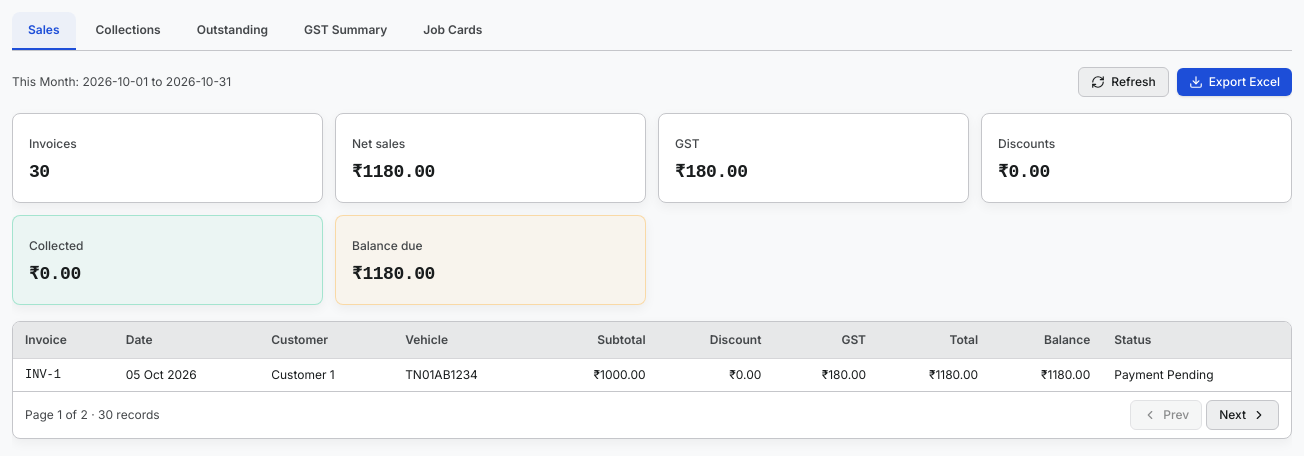
it: FinancialReportsView › moves through pages
This screenshot has width=1304, height=456.
Expected: the text "INV-1" is shown, [13, 358, 114, 391]
Expected: the text "Page 1 of 2 · 30 records" is shown, [25, 407, 160, 423]
Click the button with aria-label "next page" at (1243, 415), box [1206, 400, 1279, 430]
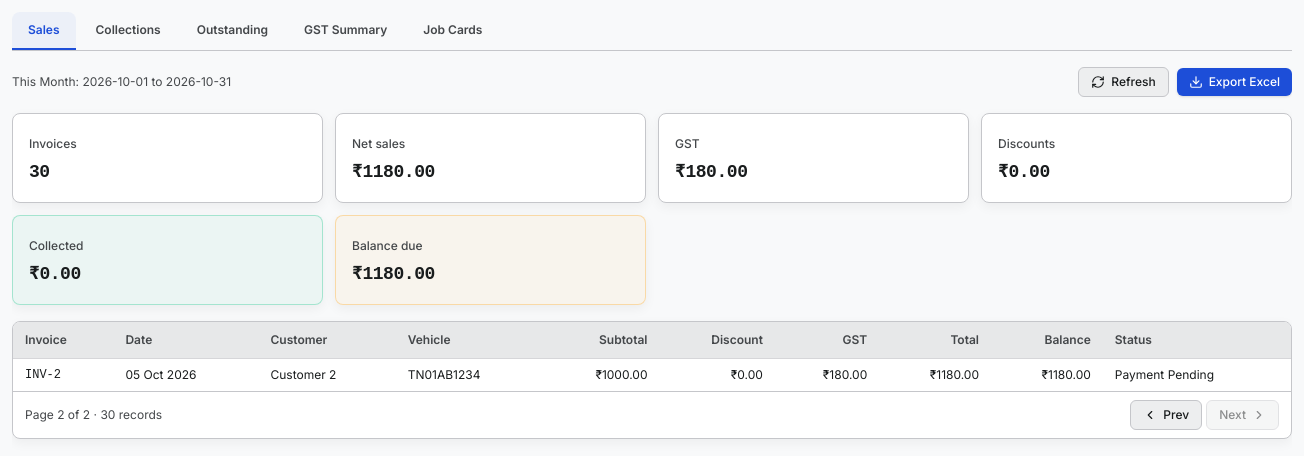
Now the text "INV-2" is shown, box [13, 358, 114, 391]
